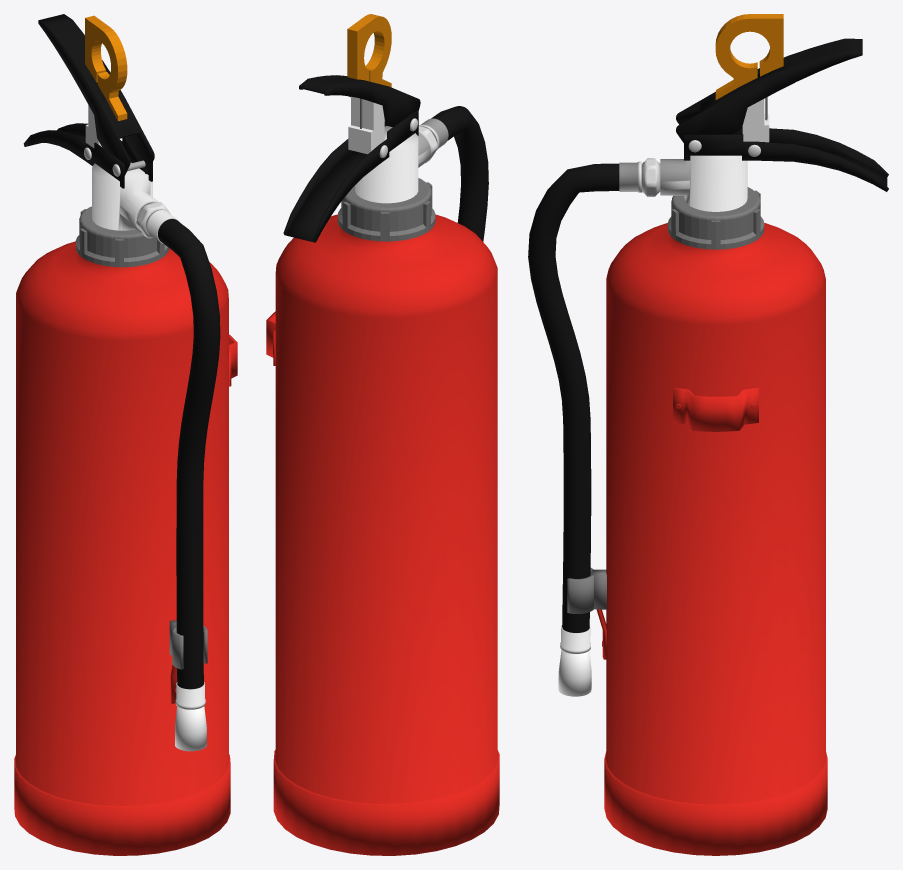
The model's file is 消火器.fbx.
The picture shows the model from 3 angles, left to right: view 1: azimuth 30°, elevation 25°; view 2: azimuth 150°, elevation 25°; view 3: azimuth 270°, elevation 25°; orthographic projection. The views are drawn at different scales.
Visible parts, largest first — view 1: Body, Hose, Lever_Upper, Connector_Hose, Connector_Body, SafetyPin, Lever_Lower; view 2: Body, Lever_Lower, Hose, Connector_Body, Connector_Hose, Lever_Upper, SafetyPin, Stopper; view 3: Body, Hose, Lever_Upper, Lever_Lower, Connector_Hose, Connector_Body, SafetyPin, Stopper.
Boxes of the visible parts, x1,y1,x2,y2 form: Body: (14,241,237,855); Hose: (145,209,220,751); Lever_Upper: (38,14,154,175); Connector_Hose: (92,162,169,238); Connector_Body: (75,206,169,267); SafetyPin: (85,15,127,121); Lever_Lower: (23,123,152,188); Body: (266,214,499,855); Lever_Lower: (283,109,418,242); Hose: (418,106,488,241); Connector_Body: (337,178,435,241); Connector_Hose: (355,126,437,203); Lever_Upper: (299,75,420,127); SafetyPin: (347,14,391,128); Stopper: (348,96,384,154); Body: (567,223,827,855); Hose: (528,161,641,696); Lever_Upper: (676,38,862,142); Lever_Lower: (684,126,888,191); Connector_Hose: (641,155,747,211); Connector_Body: (667,187,764,249); SafetyPin: (715,14,783,120); Stopper: (742,99,769,142).
Bounding box in the file's own units: 12.79 × 46.98 × 19.39.
